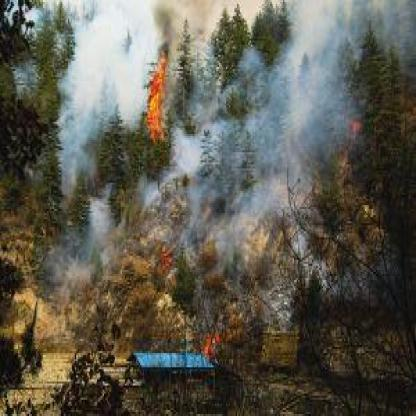fire: (141, 55, 167, 141), (196, 321, 223, 356), (348, 115, 360, 128)
smoke: (76, 10, 140, 108), (280, 56, 322, 110)
